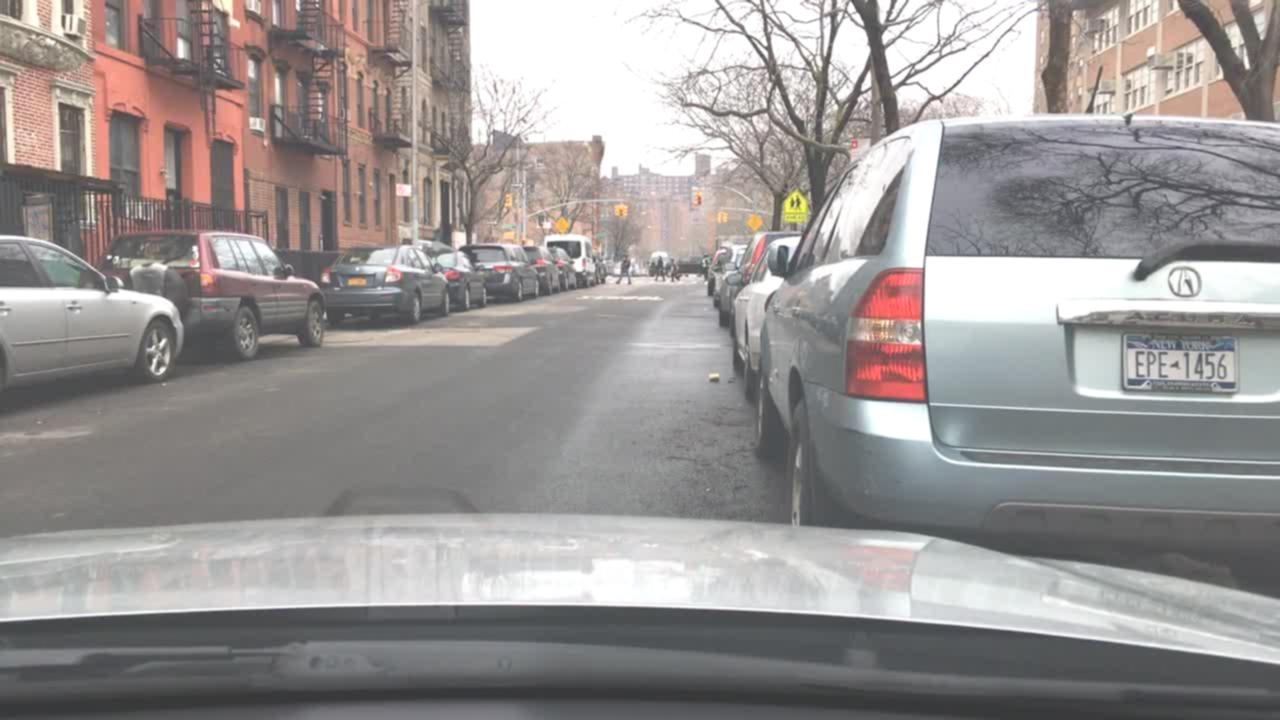acura: (1165, 260, 1206, 301)
